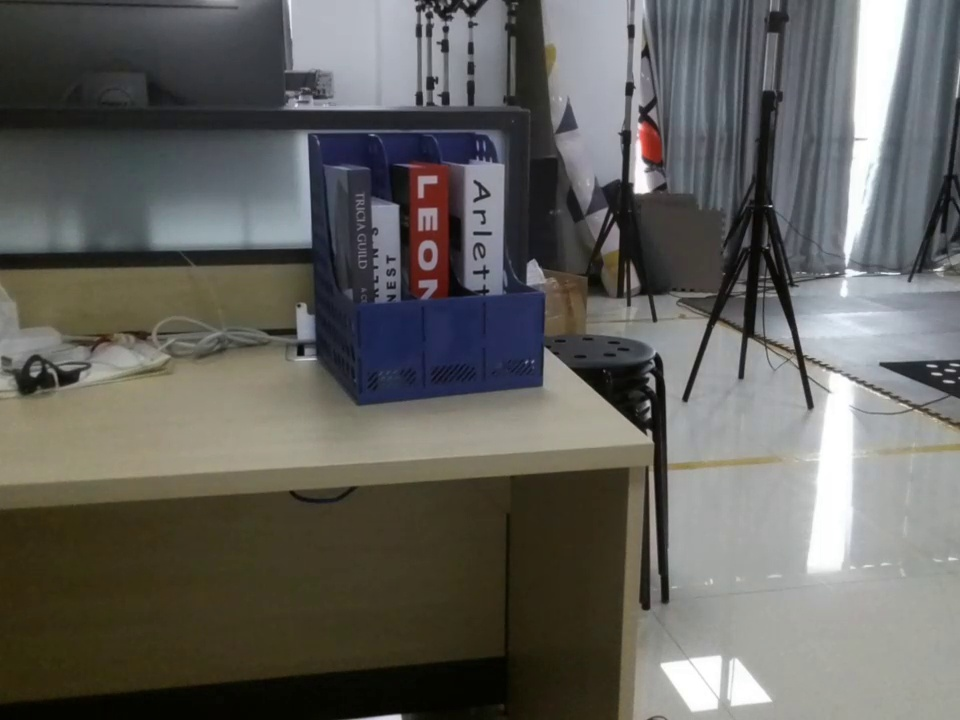files: (304, 126, 547, 410)
